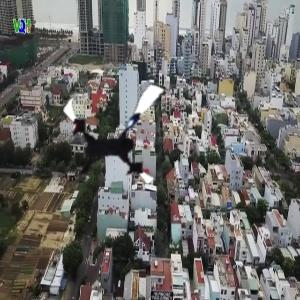drone: (55, 69, 185, 199)
